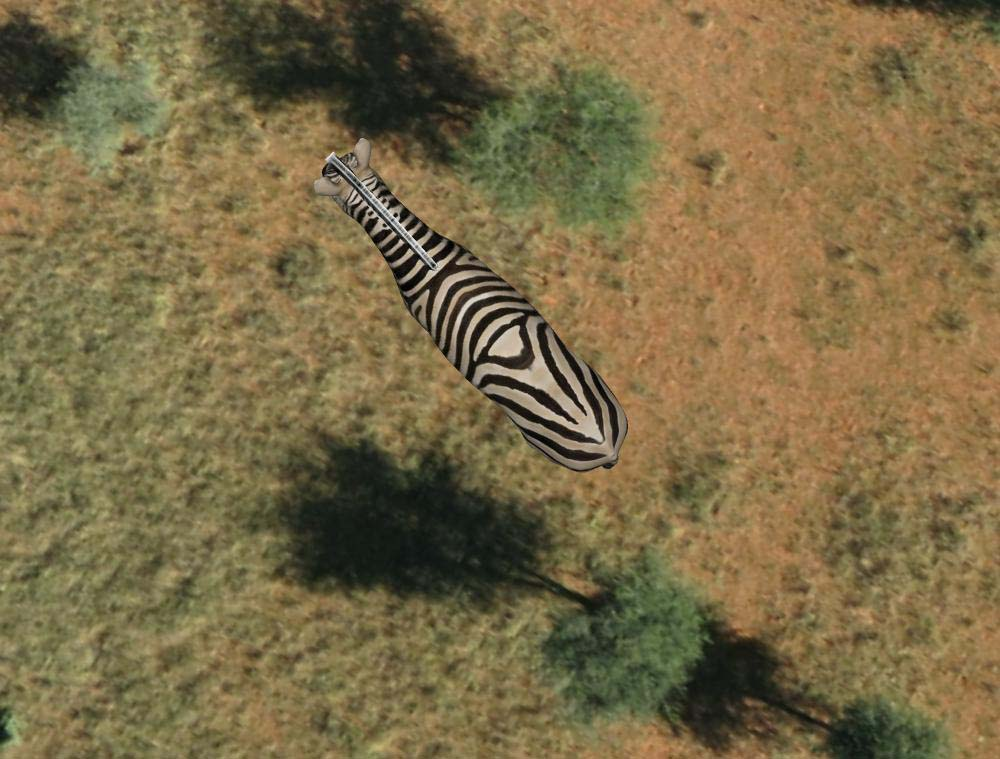zebra: (309, 135, 633, 477)
